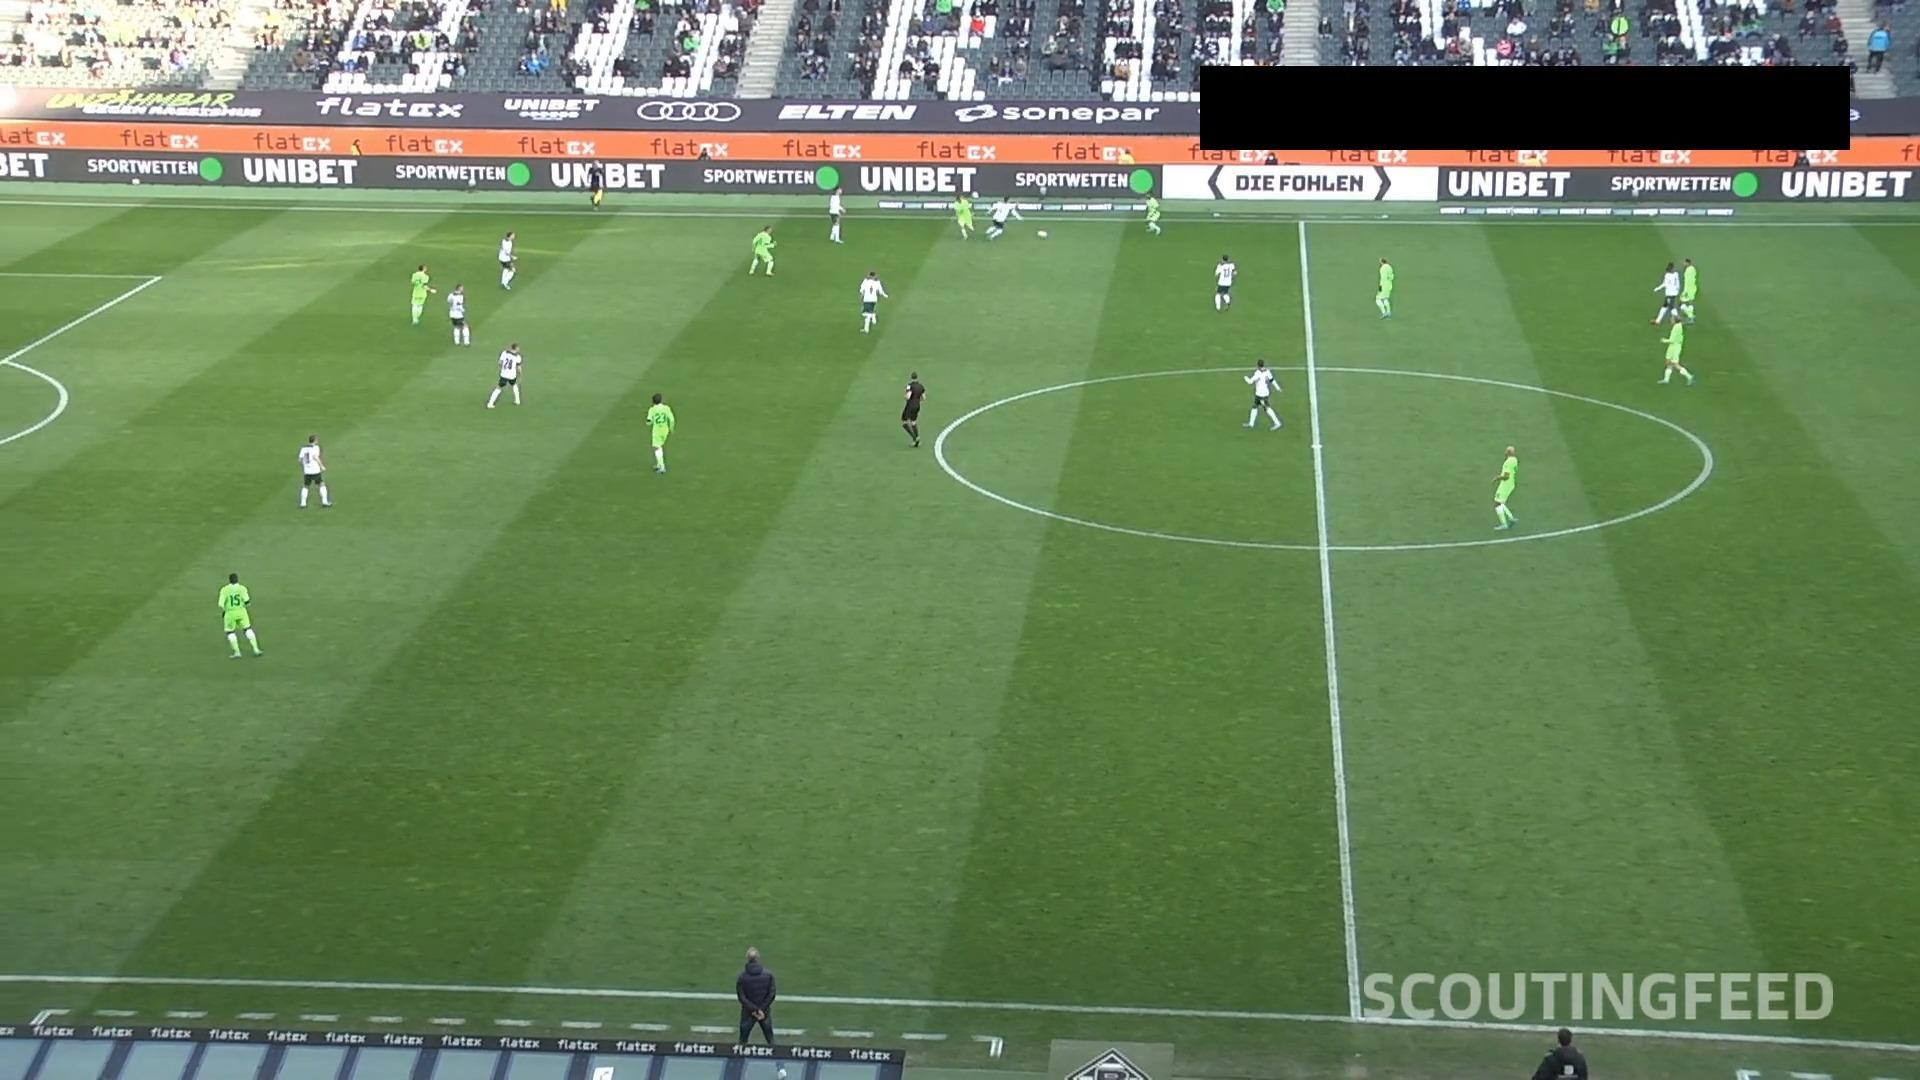ball: (1036, 229, 1047, 238)
coach: (735, 946, 776, 1045)
player: (216, 571, 262, 658), (1242, 358, 1283, 430), (1656, 307, 1693, 385), (296, 434, 332, 507), (485, 342, 523, 408), (644, 391, 674, 473), (1490, 444, 1518, 529), (857, 270, 888, 333), (1651, 261, 1681, 325), (984, 195, 1023, 239), (408, 263, 435, 324), (445, 283, 470, 345), (747, 224, 776, 276), (1212, 253, 1236, 311), (1677, 256, 1698, 321), (1374, 256, 1394, 318), (497, 230, 517, 289), (950, 193, 974, 239), (827, 185, 846, 243), (1143, 192, 1162, 234)
referee: (1531, 1026, 1588, 1078), (900, 370, 926, 447), (584, 160, 604, 208)
